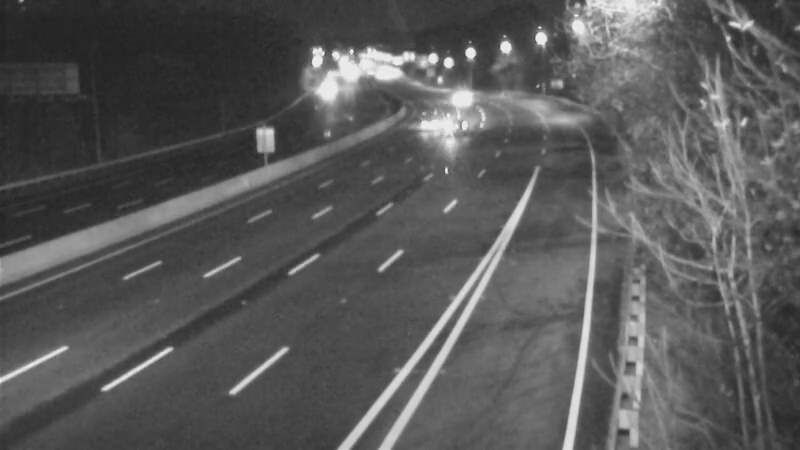vehicle: (443, 70, 493, 120), (396, 97, 446, 147), (436, 100, 486, 150)
